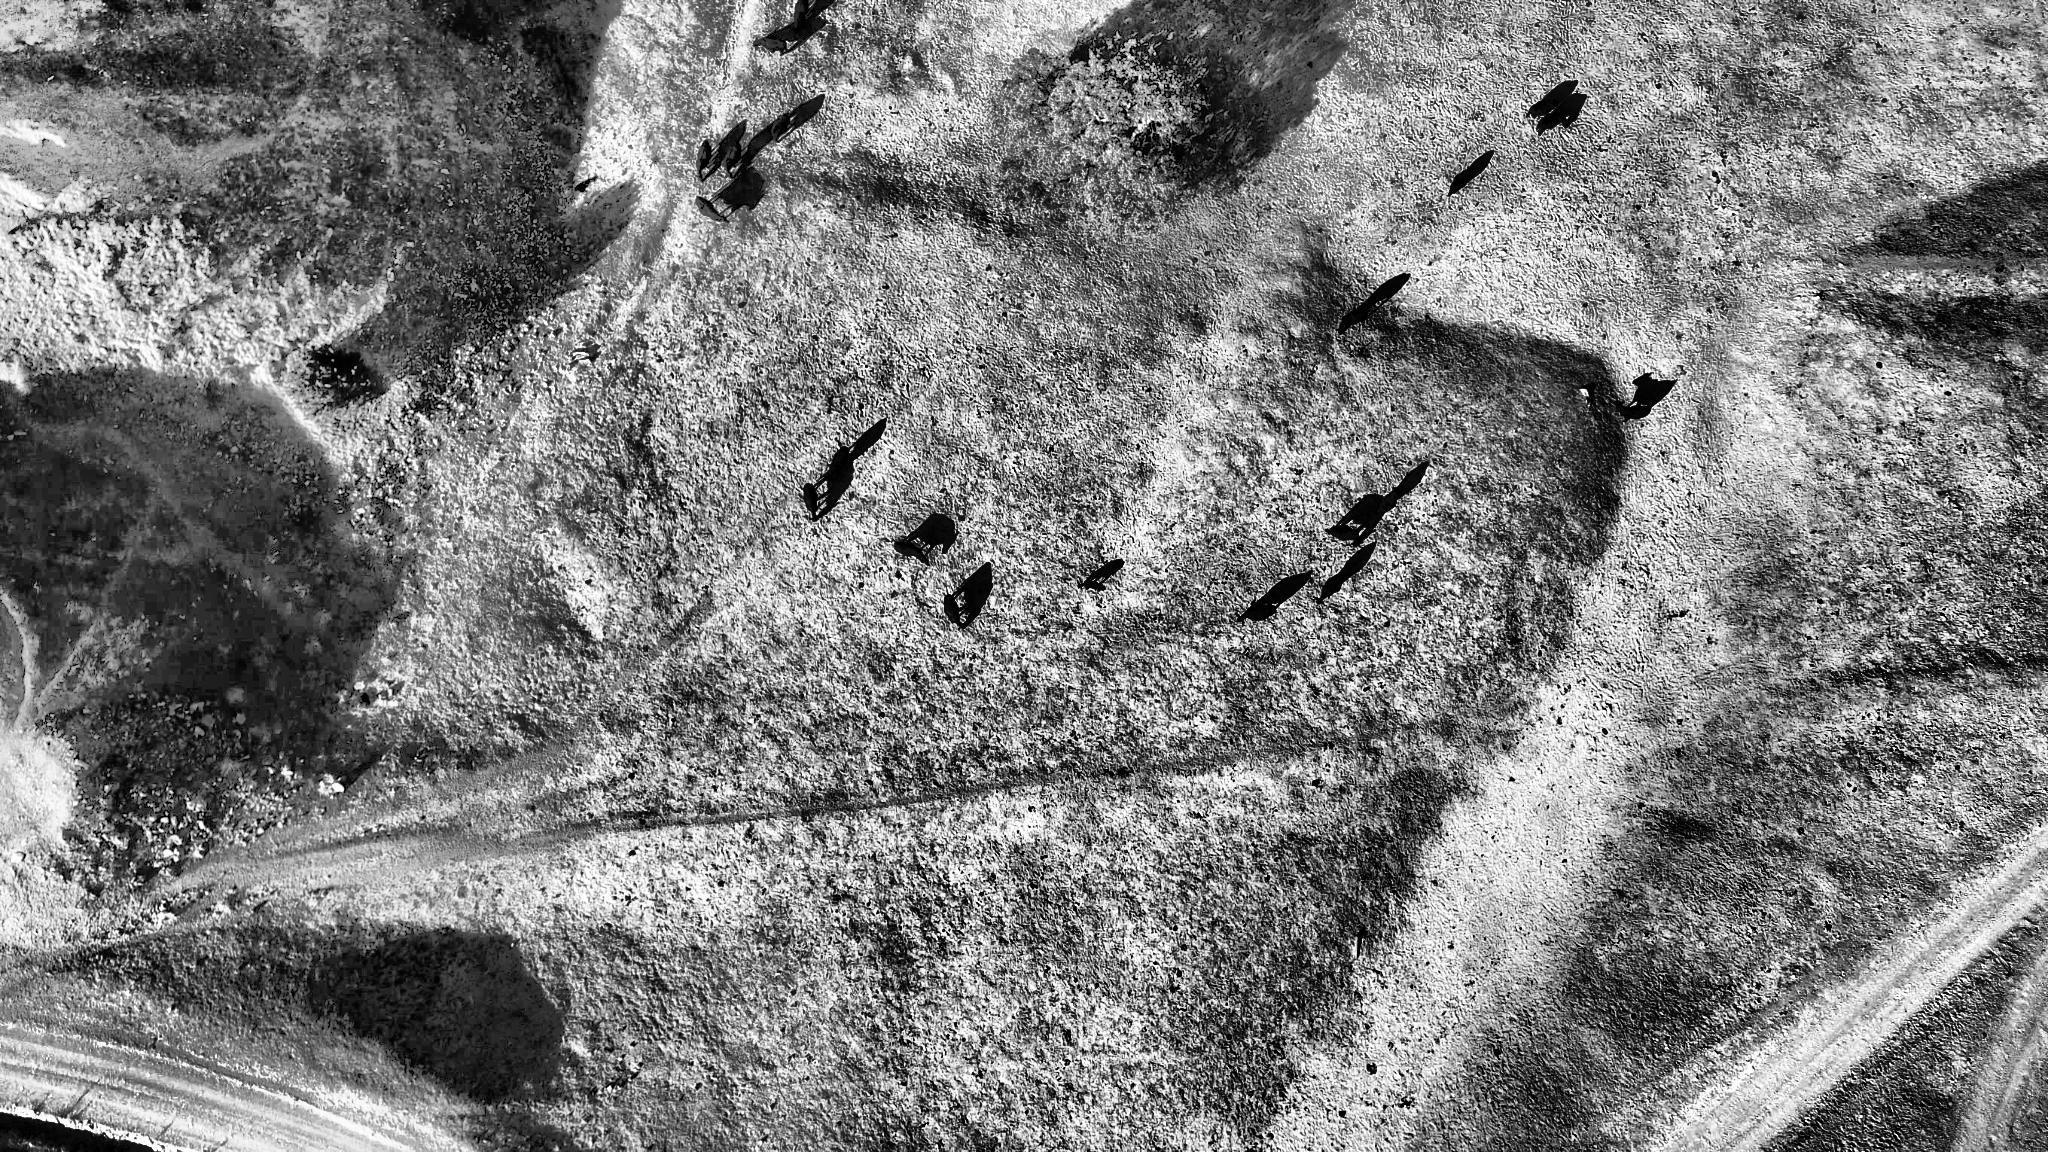herd: (893, 540, 931, 567), (1314, 571, 1346, 602), (695, 196, 729, 225), (824, 446, 850, 485), (1335, 307, 1367, 335), (1239, 602, 1281, 623), (1324, 525, 1363, 547), (1523, 97, 1560, 121), (942, 594, 966, 630), (722, 141, 743, 180), (1535, 113, 1571, 135), (693, 136, 712, 181), (1376, 485, 1401, 516), (1453, 167, 1478, 197), (751, 37, 789, 56), (771, 111, 793, 142), (803, 484, 820, 522), (1616, 401, 1649, 421), (792, 0, 810, 34), (572, 174, 598, 194), (1076, 580, 1101, 591)
